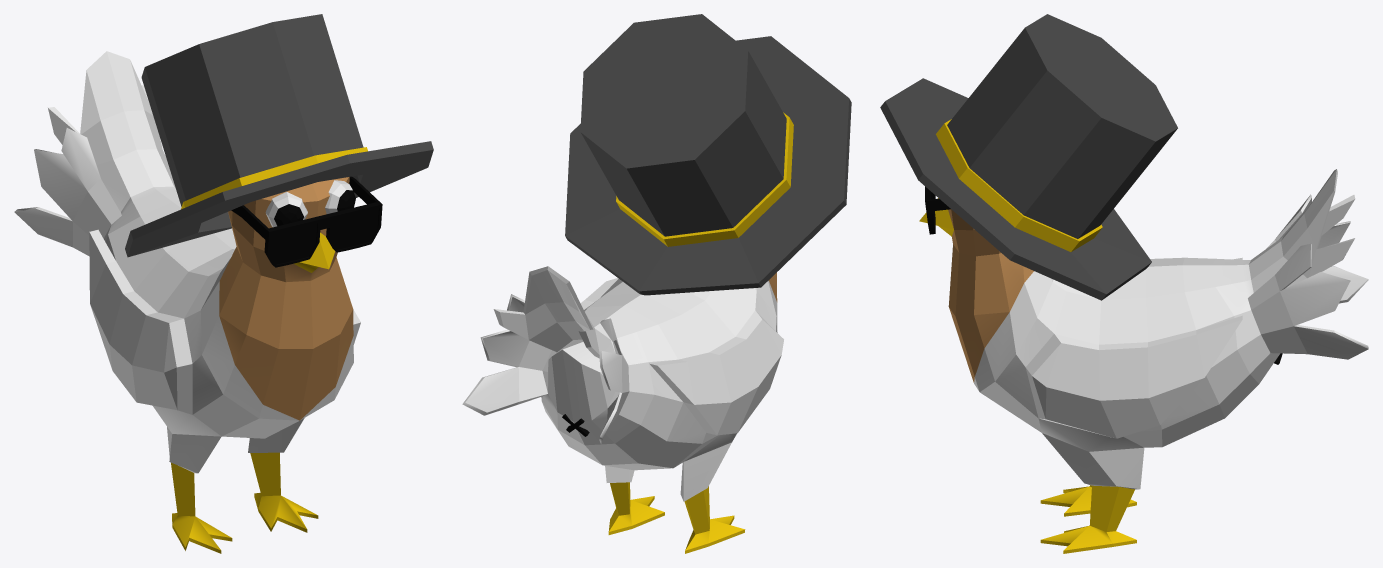
File: Checken 1.fbx
The picture shows the model from 3 angles, left to right: view 1: azimuth 30°, elevation 25°; view 2: azimuth 150°, elevation 25°; view 3: azimuth 270°, elevation 25°; orthographic projection. The views are drawn at different scales.
Visible parts, largest first — view 1: TheChicken, TheHat, pCube3, pCube2, Reye, Leye; view 2: TheHat, TheChicken; view 3: TheChicken, TheHat.
Boxes of the visible parts, x1,y1,x2,y2 form: TheChicken: (14,51,360,553); TheHat: (125,14,433,257); pCube3: (231,205,330,267); pCube2: (326,176,382,252); Reye: (265,192,307,227); Leye: (325,180,355,213); TheHat: (565,14,851,295); TheChicken: (462,266,783,553); TheChicken: (919,169,1368,553); TheHat: (880,14,1177,300).
Size of the model in its own units: 3.39 by 5.81 by 5.17.
